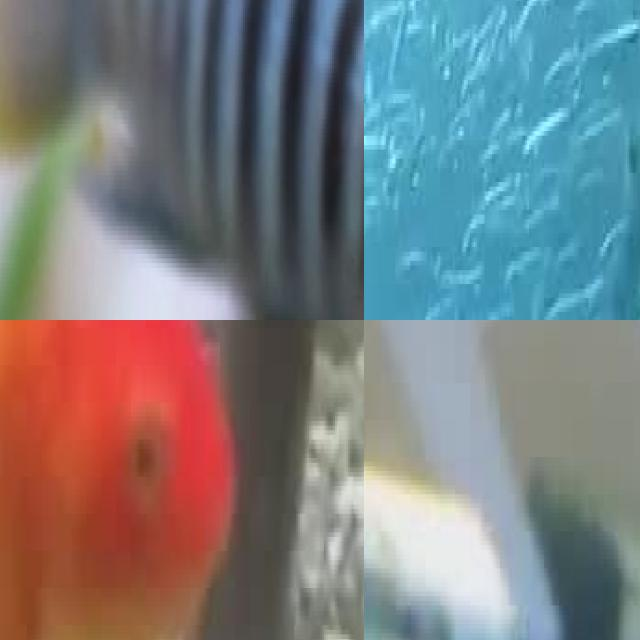fish: (0, 0, 364, 320), (0, 320, 108, 640)
